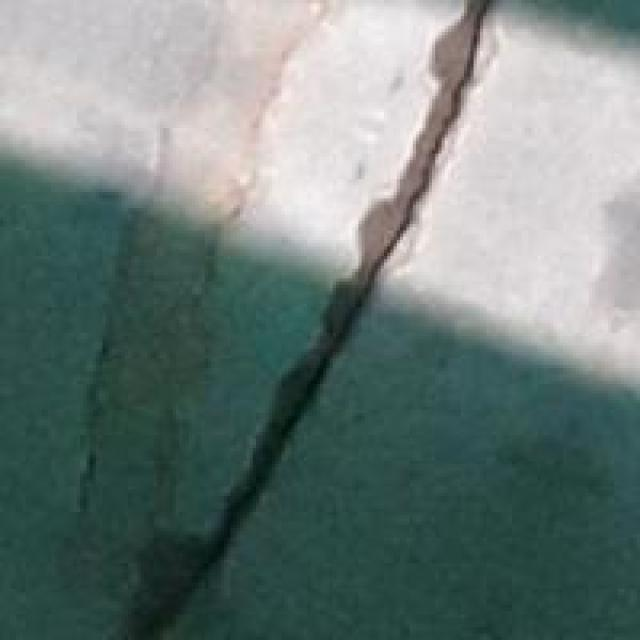Crack: (144, 0, 499, 637)
